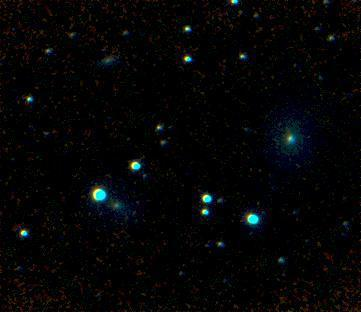star: (244, 187, 274, 217)
